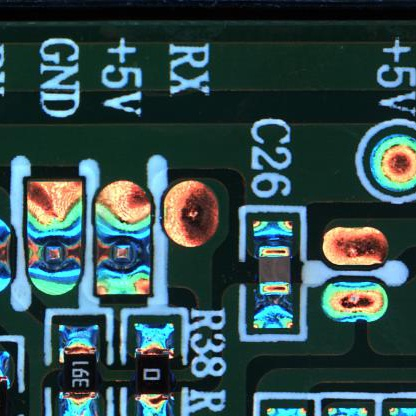spot: (91, 179, 153, 296), (26, 179, 85, 294), (163, 178, 220, 250), (321, 280, 390, 323), (322, 224, 390, 267)
